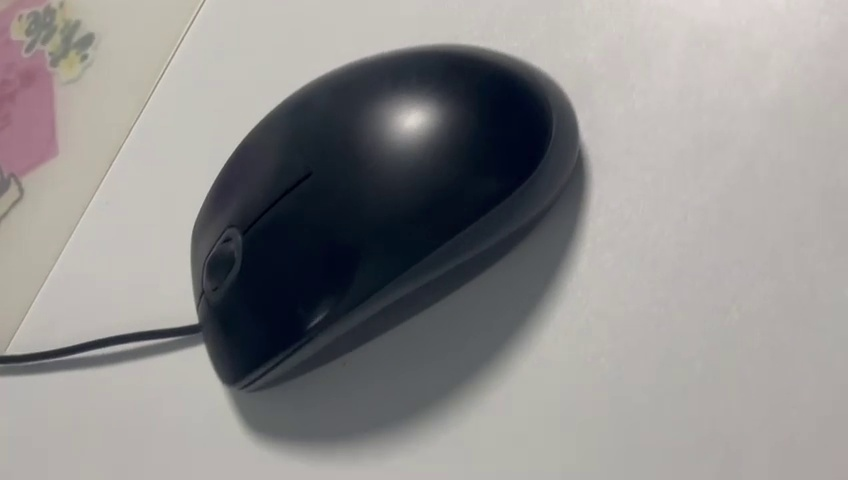objeto: (171, 35, 598, 373)
